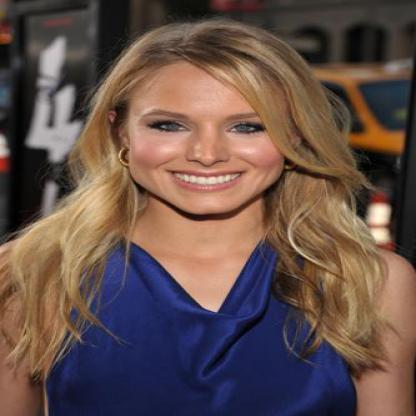long-hair: (26, 216, 380, 262)
